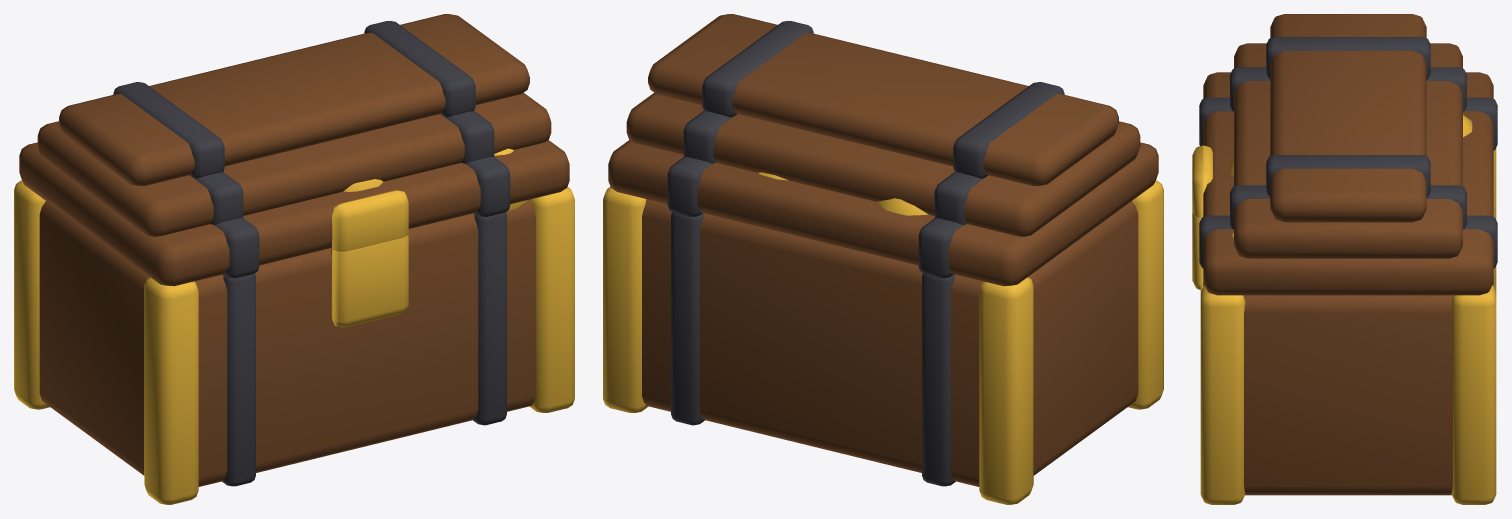
File: TreasureChest.glb
The picture shows the model from 3 angles, left to right: view 1: azimuth 30°, elevation 25°; view 2: azimuth 150°, elevation 25°; view 3: azimuth 270°, elevation 25°; orthographic projection. The views are drawn at different scales.
Parts seen in each view (by area): view 1: TreasureChest, Lid; view 2: TreasureChest, Lid; view 3: Lid, TreasureChest.
Boxes of the visible parts, x1,y1,x2,y2 form: TreasureChest: (14,148,574,504); Lid: (19,14,569,286); TreasureChest: (603,172,1163,504); Lid: (608,14,1158,286); Lid: (1192,14,1497,295); TreasureChest: (1192,115,1496,504).
Size of the model in its own units: 1.66 by 1.23 by 1.1.
